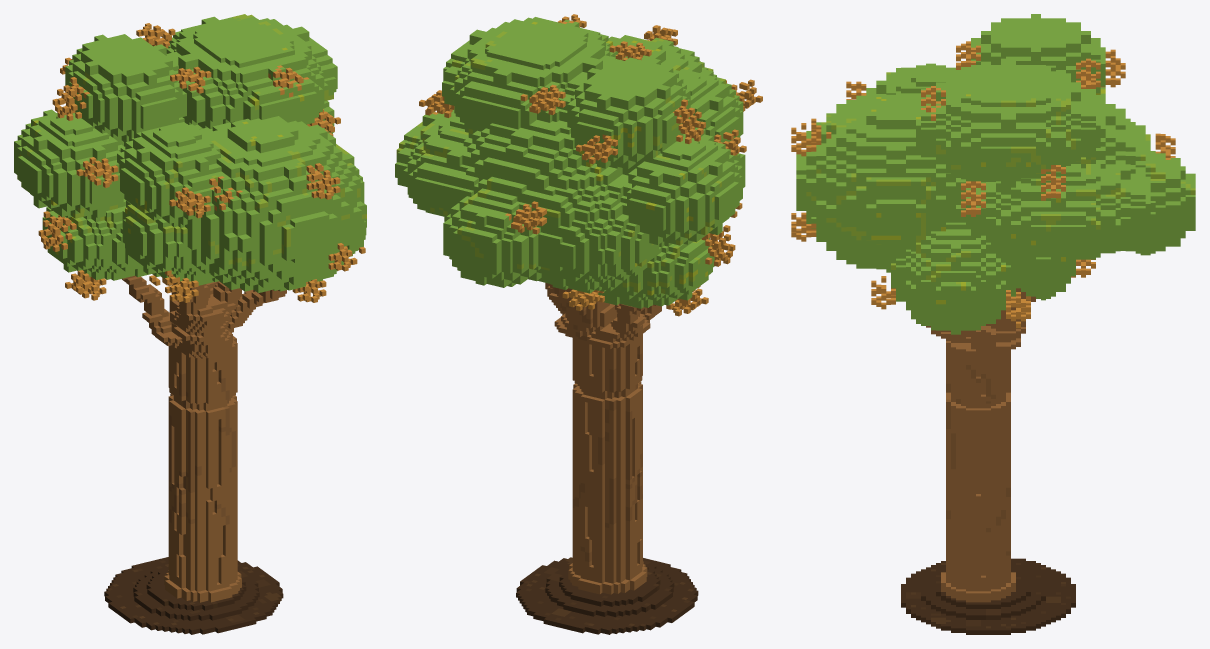
The model's file is 1_1 pitomb.obj.
3 renders of one model, left to right at view 1: azimuth 30°, elevation 25°; view 2: azimuth 150°, elevation 25°; view 3: azimuth 270°, elevation 25°, orthographic.
Size of the model in its own units: 7 by 12 by 8.1.
1 material, 1 textured.
